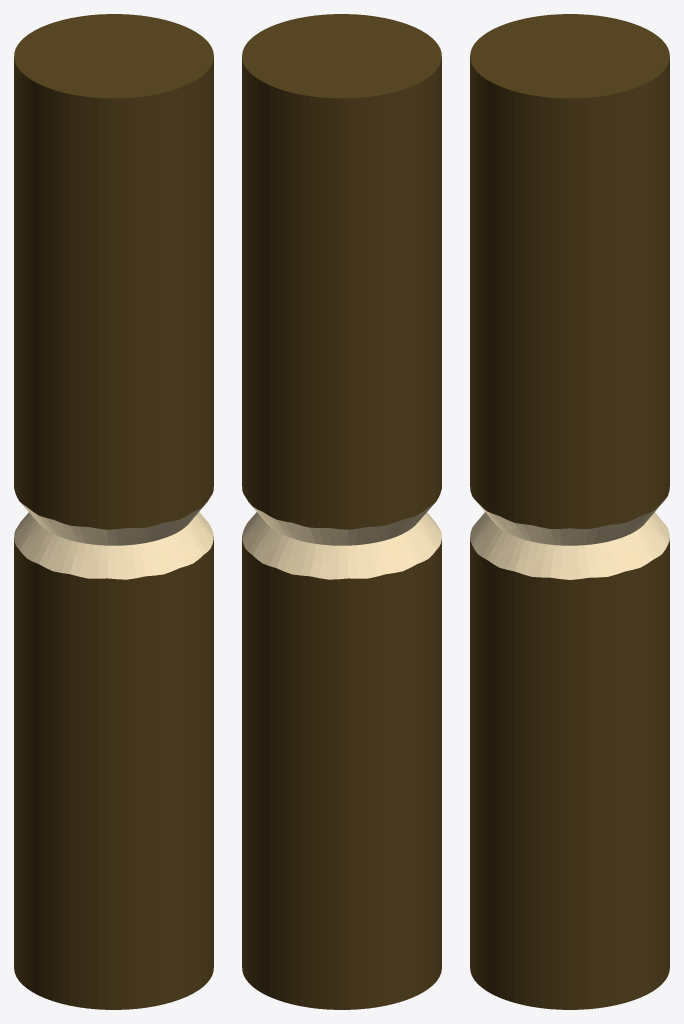
The model's file is Target_2.fbx.
3 renders of one model, left to right at view 1: azimuth 30°, elevation 25°; view 2: azimuth 150°, elevation 25°; view 3: azimuth 270°, elevation 25°, orthographic.
Visible parts, largest first — view 1: Target_2; view 2: Target_2; view 3: Target_2.
Boxes of the visible parts, x1,y1,x2,y2 form: Target_2: (14,14,213,1009); Target_2: (242,14,441,1009); Target_2: (470,14,669,1009).
Size of the model in its own units: 39.75 by 200 by 39.75.
Materials: 1 (1 with a texture image).
